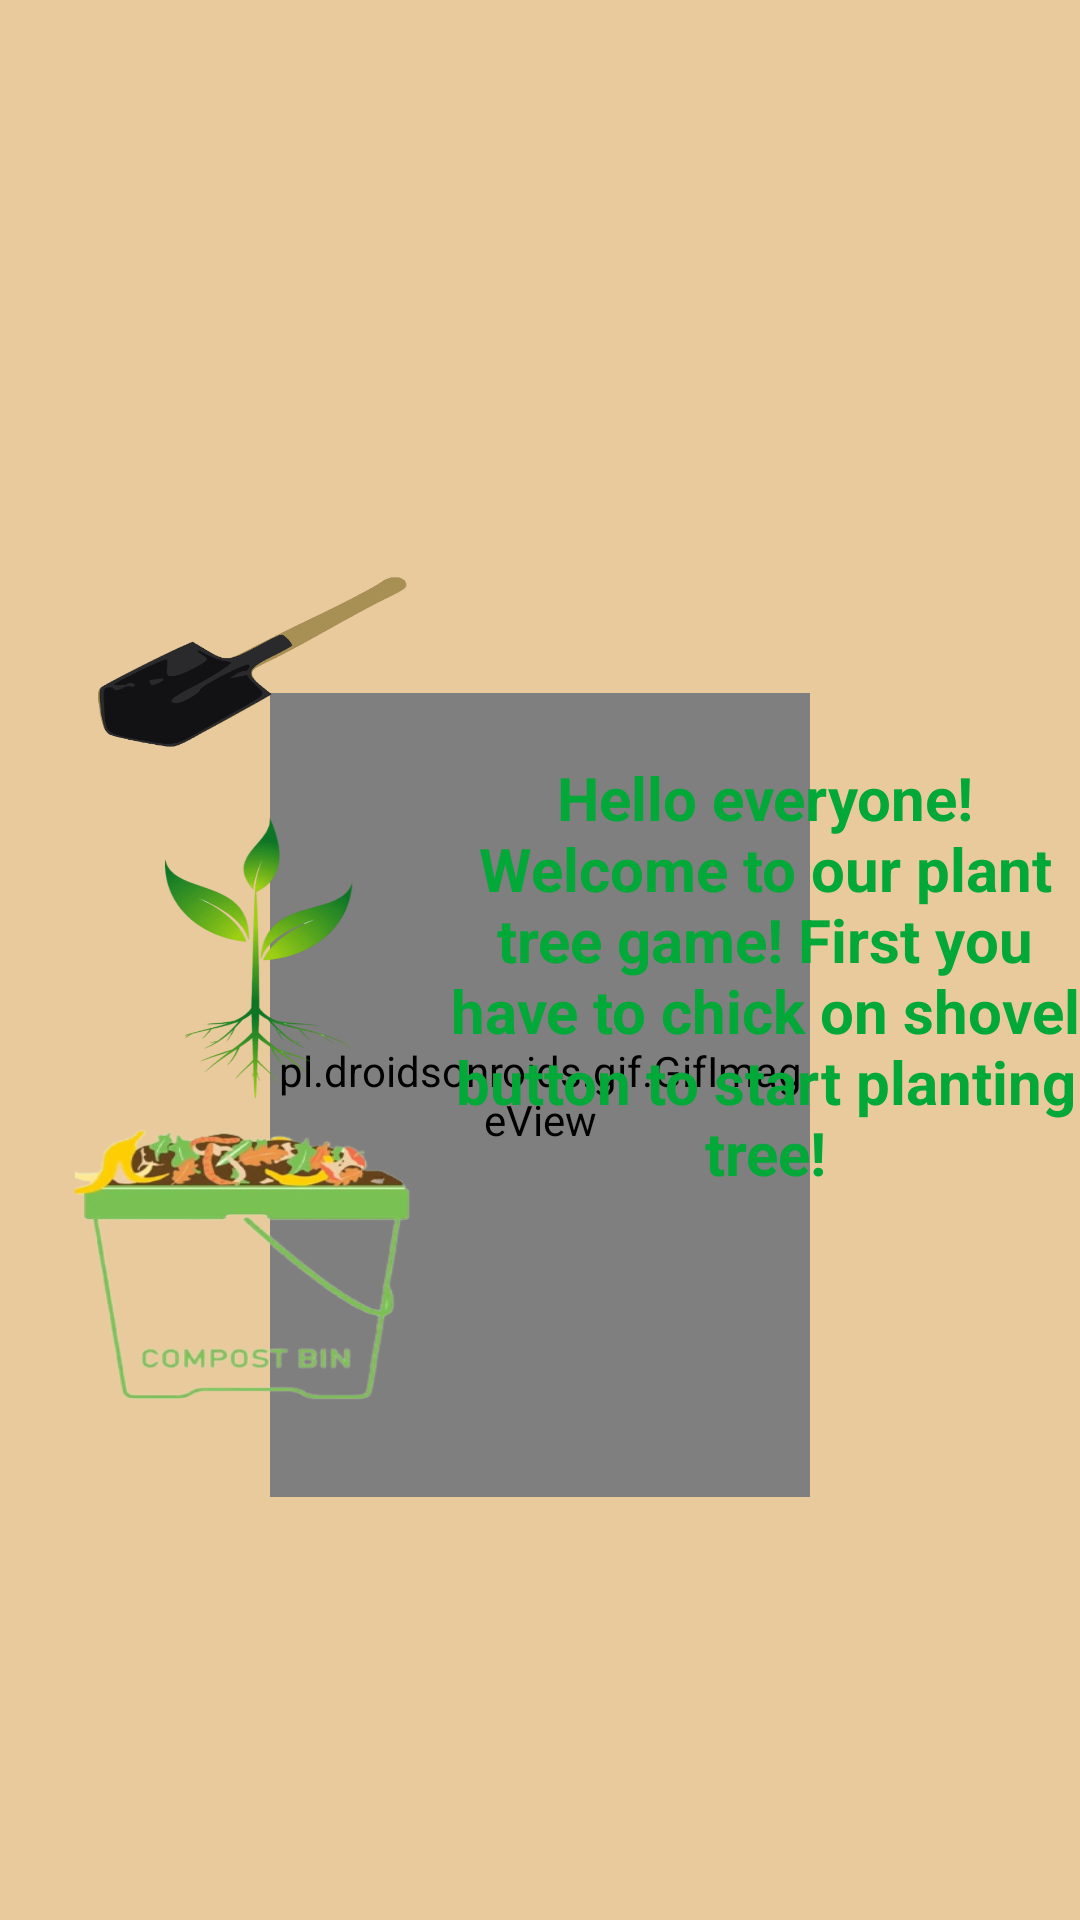

Where to tap for icons on this 1080 x 1920 app screen, as (x,y):
compostbg: (255,1260)
